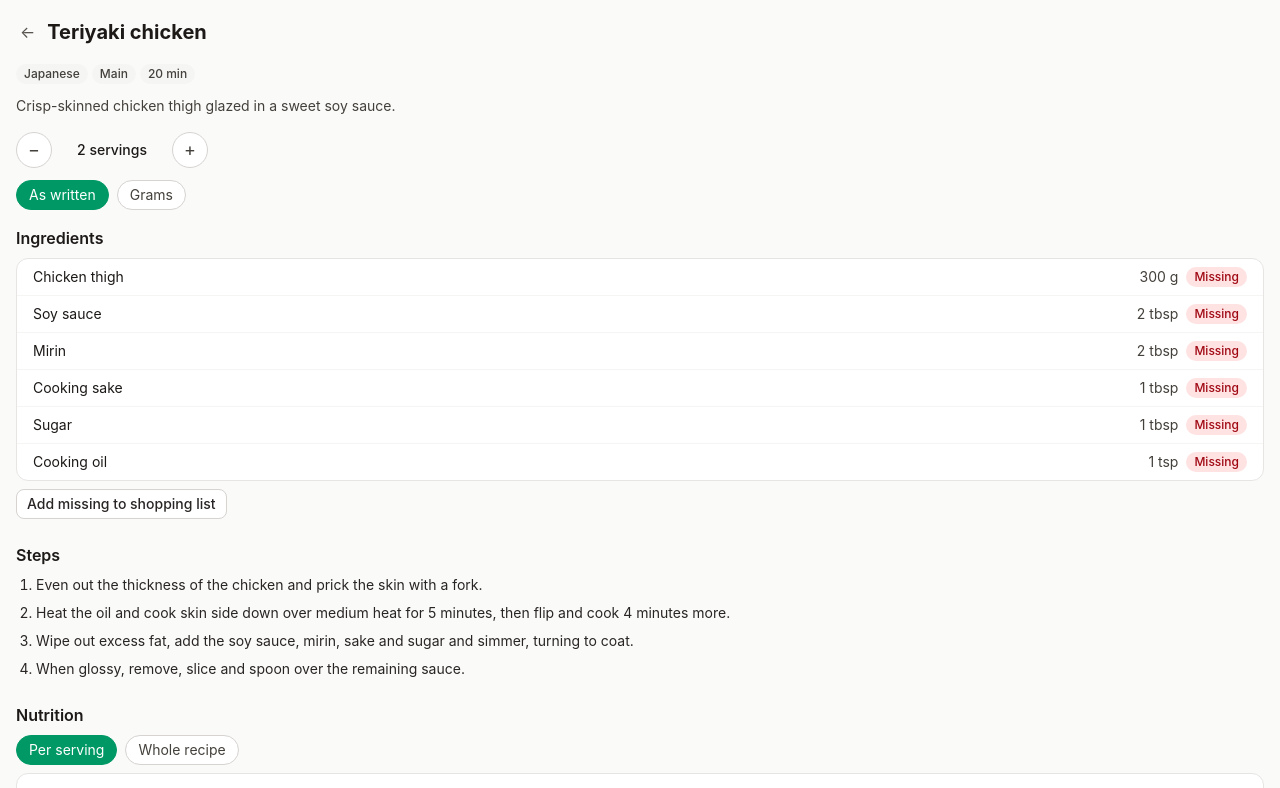
Test: RecipeDetailPage › scales ingredient amounts with the servings stepper
The width and height of the screenshot is (1280, 788).
Expected: the text "300 g" is shown, [1140, 267, 1178, 287]
Click the button named "More servings" at (190, 150), box [172, 132, 208, 168]
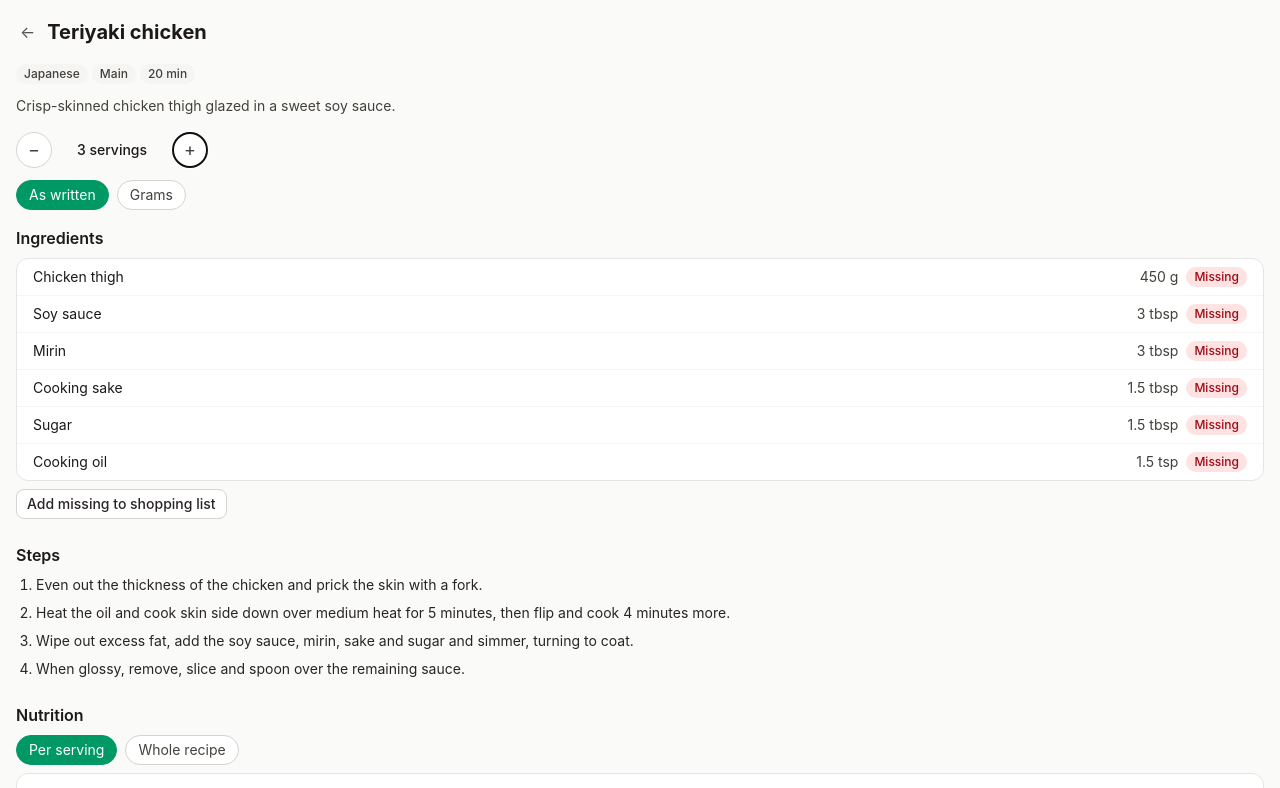
Now the text "450 g" is shown, box [1140, 267, 1178, 287]
